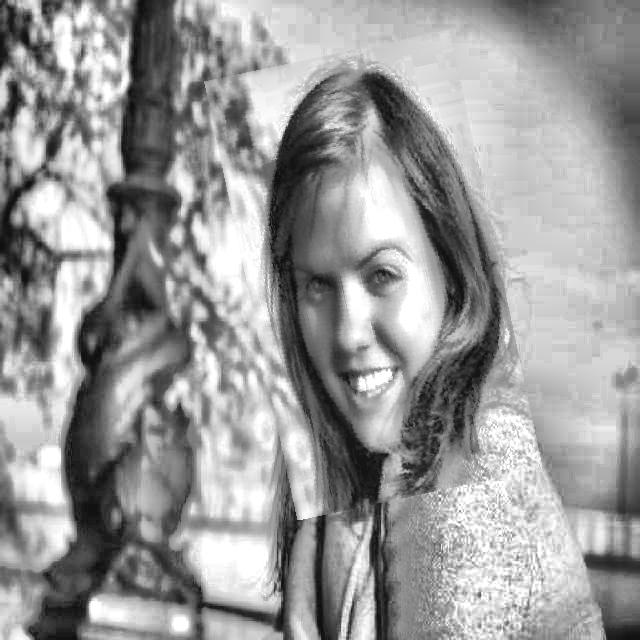happy: (226, 39, 521, 510)
